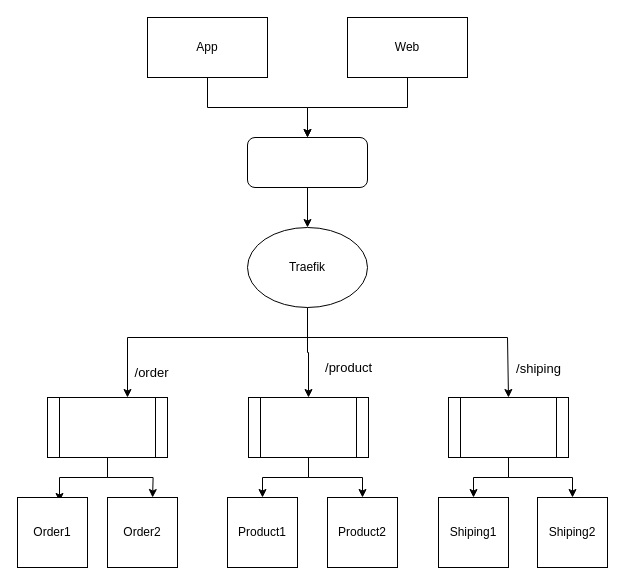
The diagram is 625 pixels wide and 585 high, and some of its shapes have lost their labels. Each missing label, with the centre of its shape:
"API Gateway" goes at (307,162).
"Order Service" goes at (107,427).
"Product Service" goes at (308,427).
"Shiping Service" goes at (508,427).
